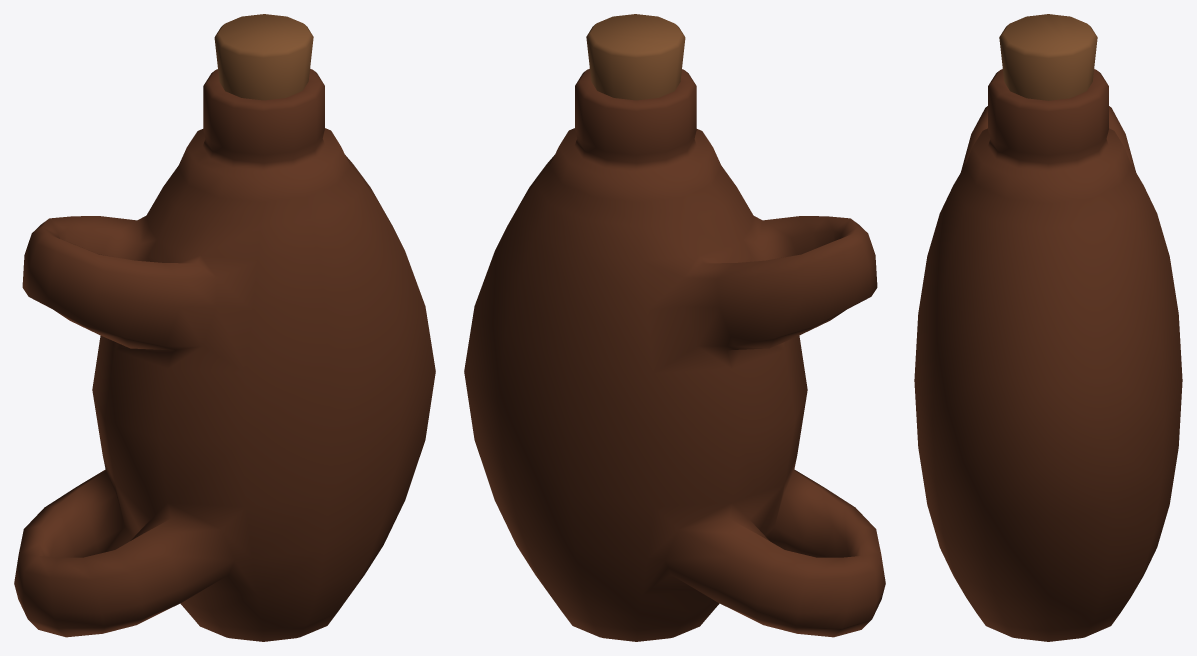
The model's file is waterskin.fbx.
3 views of the same model, side by side, from view 1: azimuth 30°, elevation 25°; view 2: azimuth 150°, elevation 25°; view 3: azimuth 270°, elevation 25° (orthographic).
Visible parts, largest first — view 1: higherpoly_base_beveled; view 2: higherpoly_base_beveled; view 3: higherpoly_base_beveled.
Part boxes in pixels (left/top/right/bottom): higherpoly_base_beveled: left=14, top=14, right=435, bottom=641; higherpoly_base_beveled: left=464, top=14, right=885, bottom=641; higherpoly_base_beveled: left=914, top=14, right=1182, bottom=641.
Bounding box in the file's own units: 30.37 × 42.13 × 17.63.
